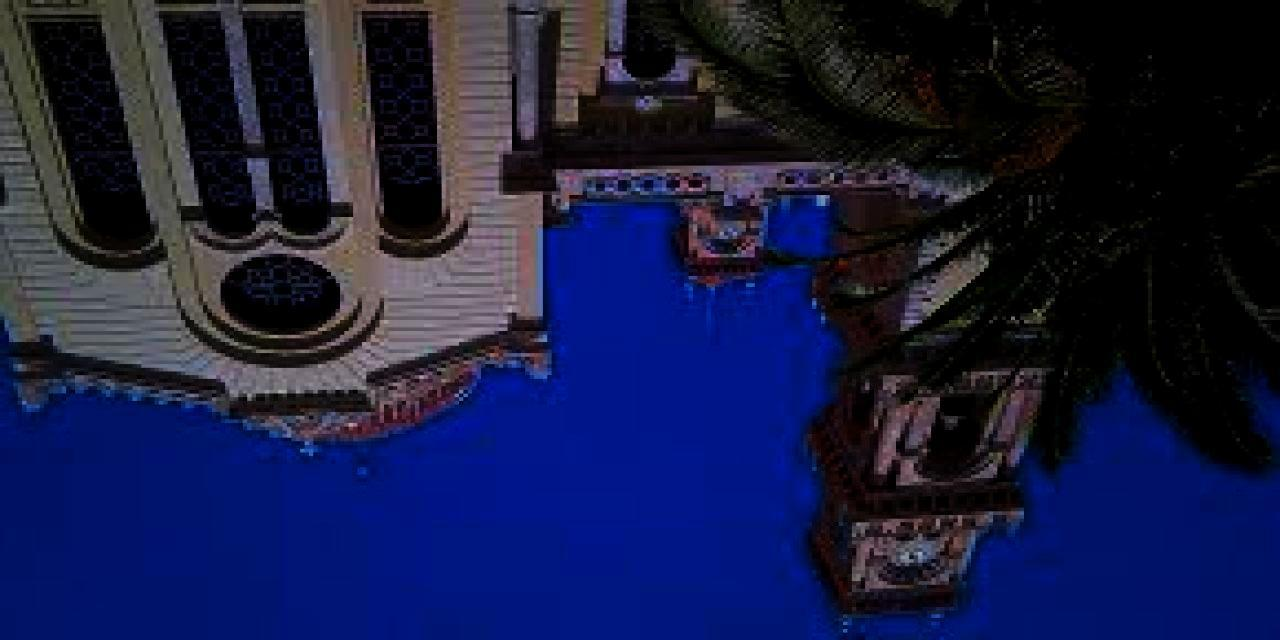Agios Minas: (1, 1, 1097, 633)
